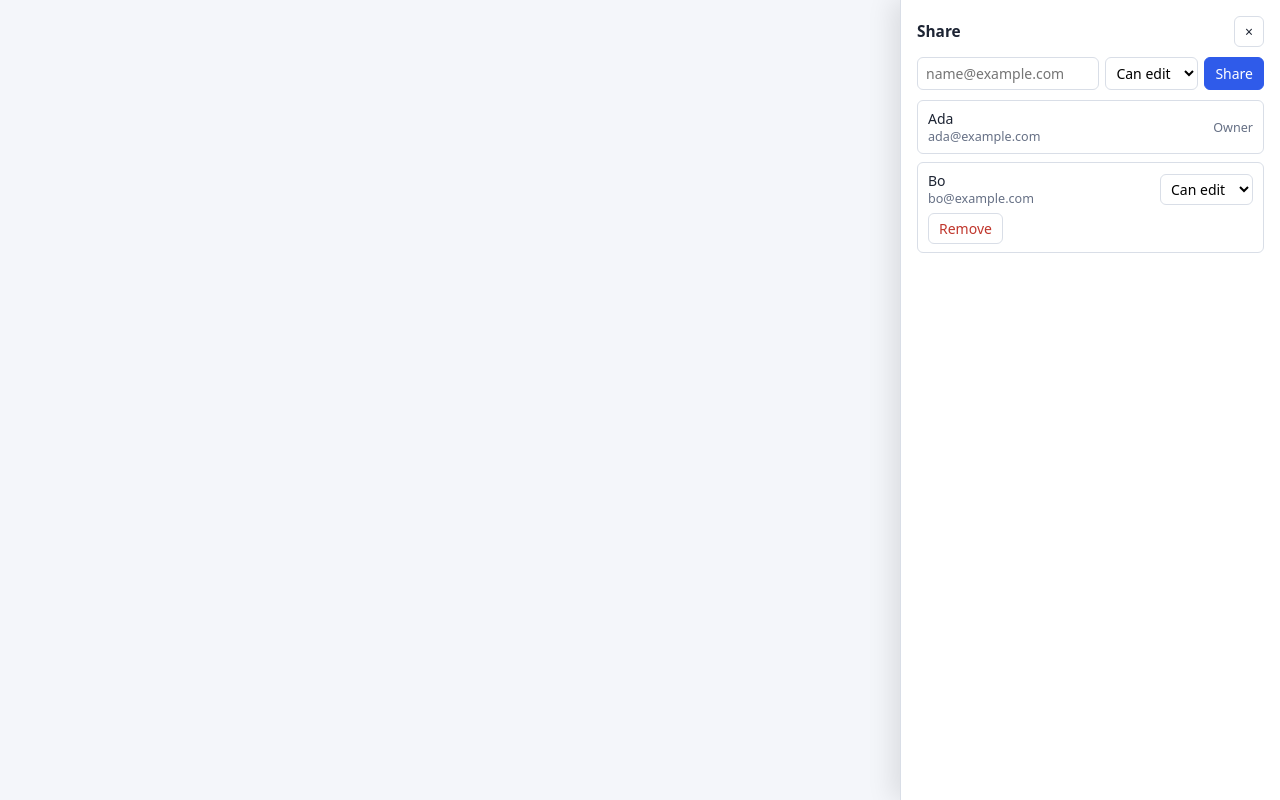
SharePanel › shows why sharing failed, and keeps what was typed
Type "zed@example.com" into the field with placeholder "name@example.com".
click(1008, 74); type("zed@example.com")  # box [917,57,1099,90]
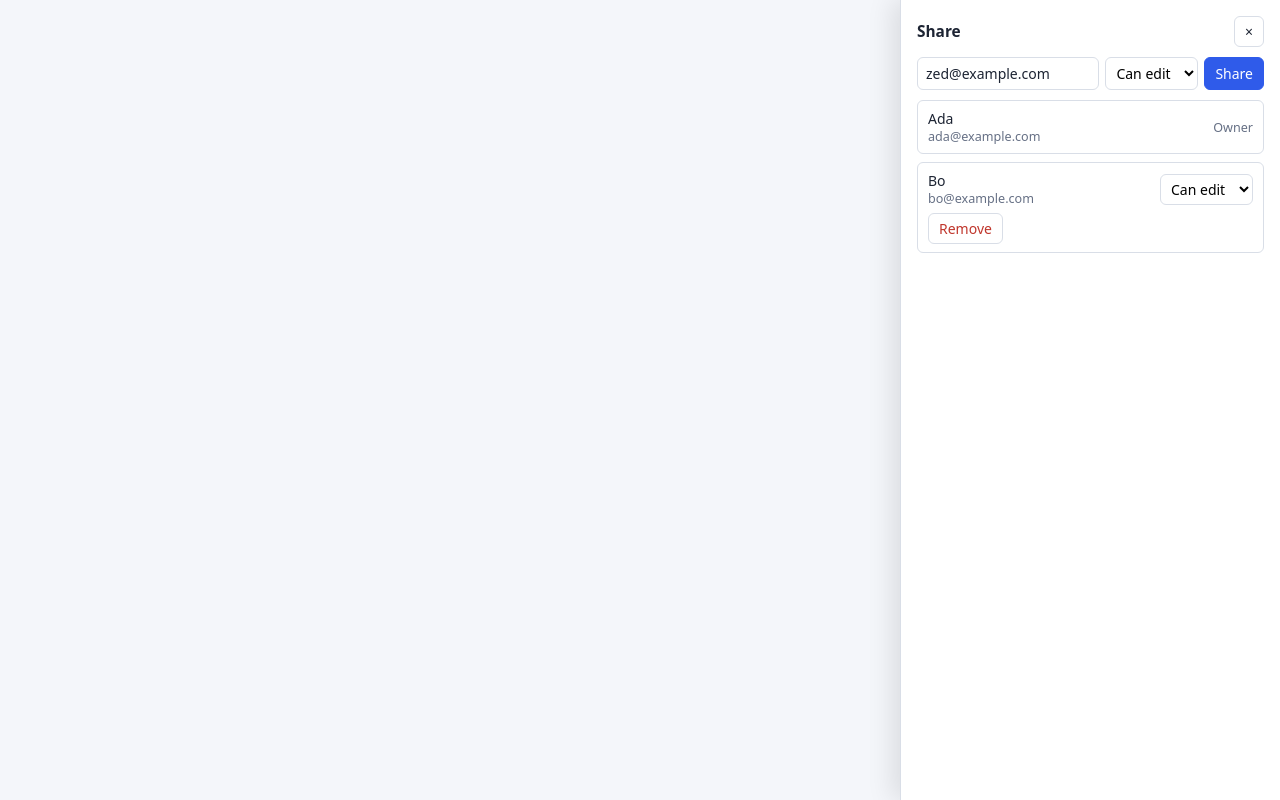
Submit the form, box [917,57,1264,90]
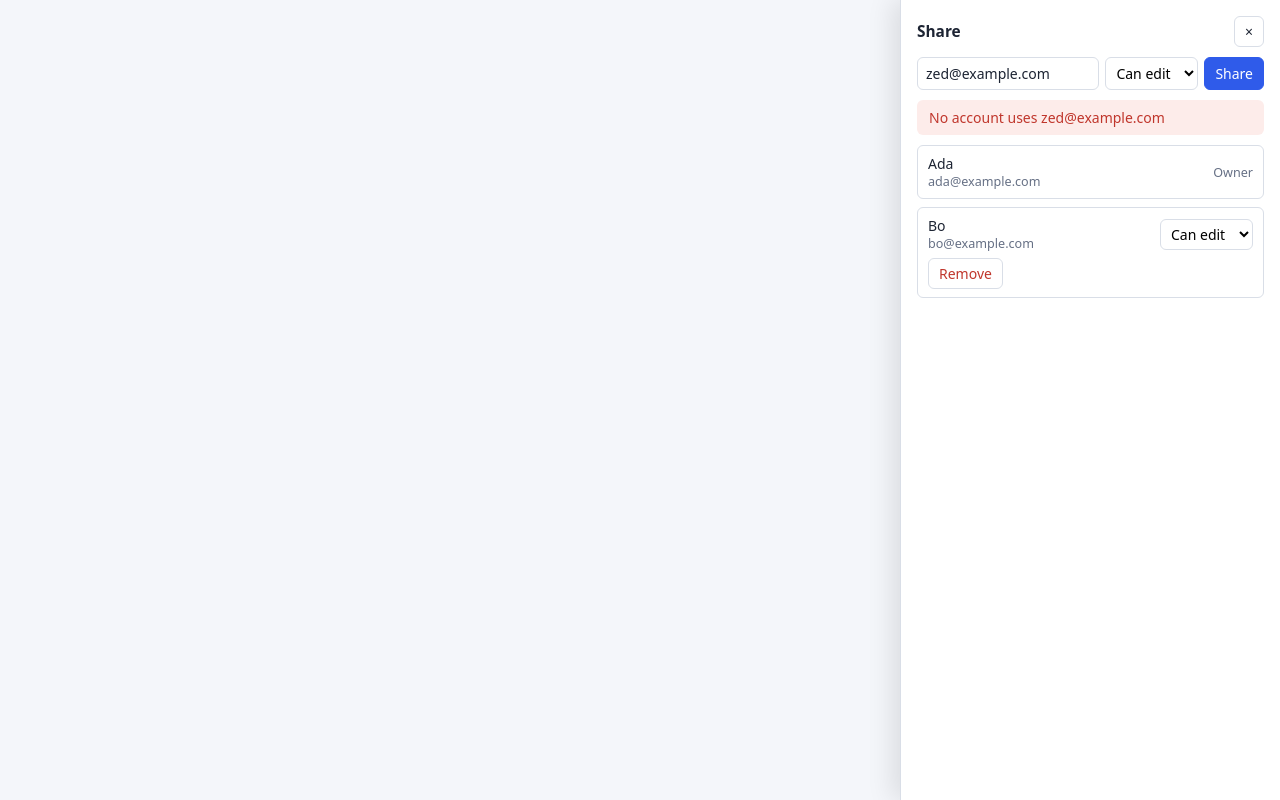
Expected: the message "No account uses zed@example.com" is shown, [917,100,1264,135]
